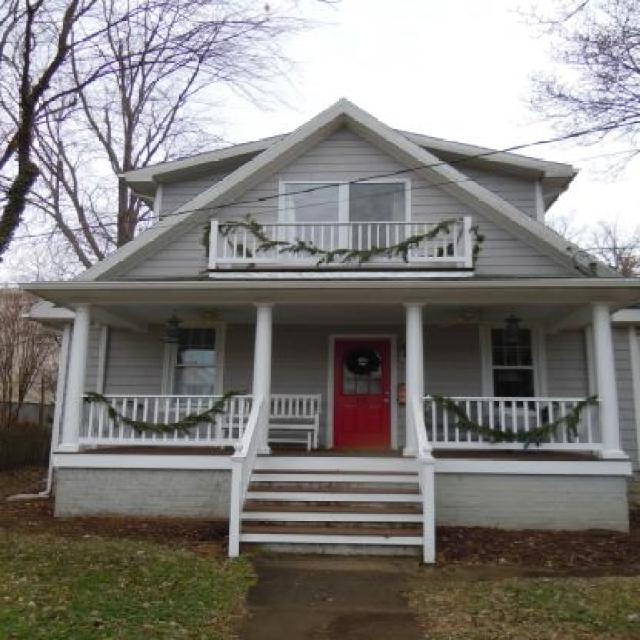stair: (242, 454, 429, 558)
